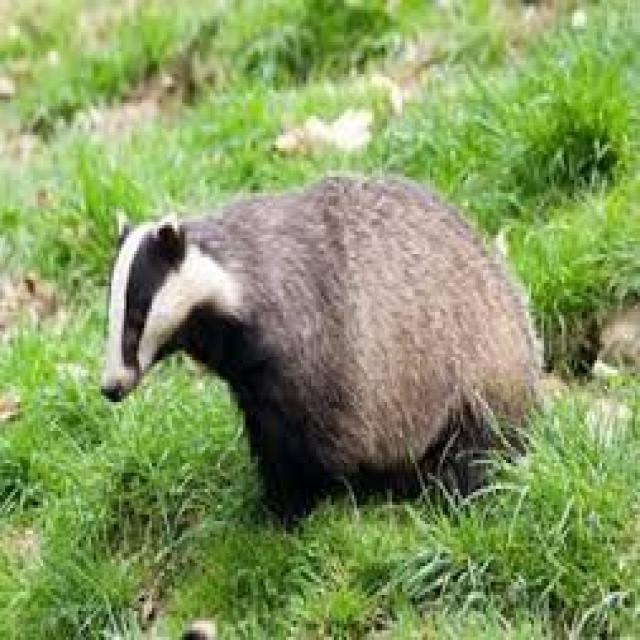Badger: (95, 163, 550, 508)
